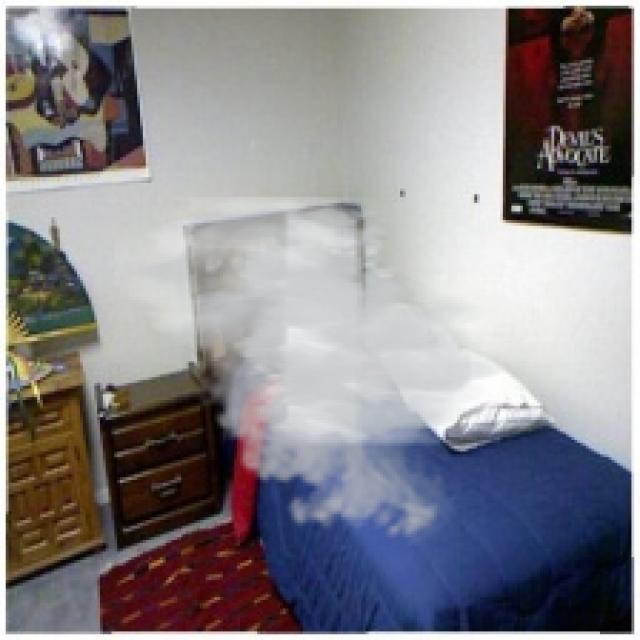smoke: (114, 197, 529, 549)
